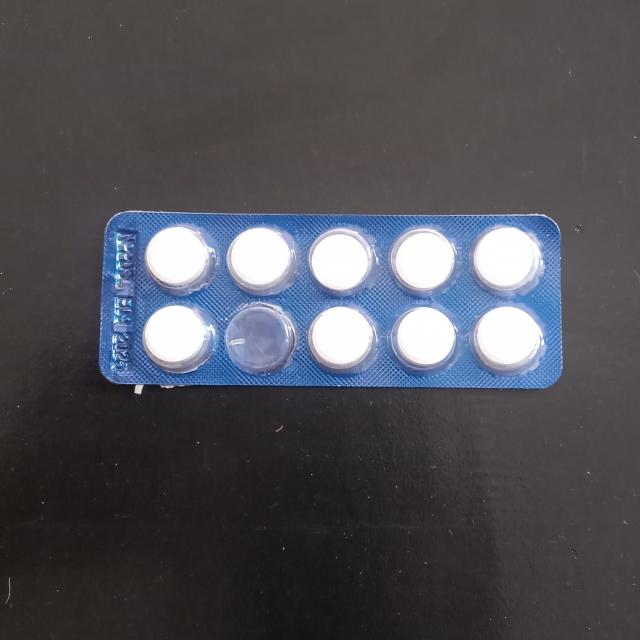defect: (220, 298, 303, 378)
